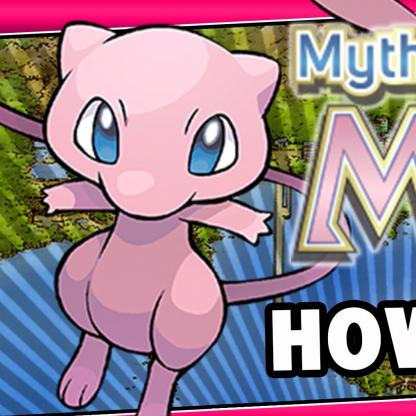Mew: (1, 8, 346, 416)
